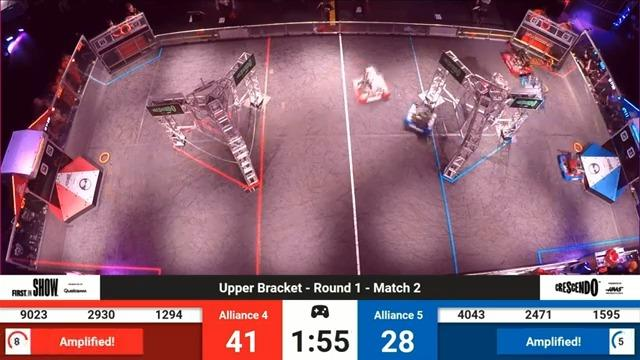robot: (551, 137, 595, 185), (348, 62, 387, 116), (402, 103, 443, 143), (476, 66, 515, 103), (504, 40, 541, 78), (513, 71, 556, 103)
